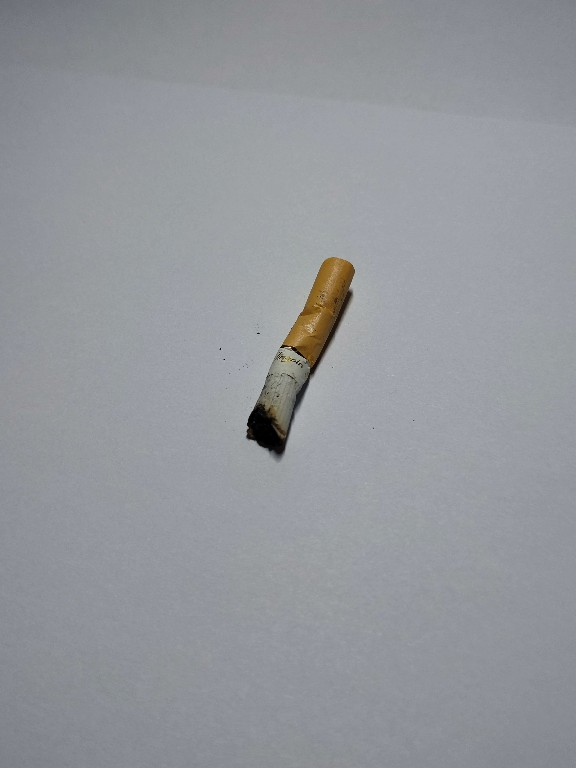cigarette: (241, 252, 359, 460)
